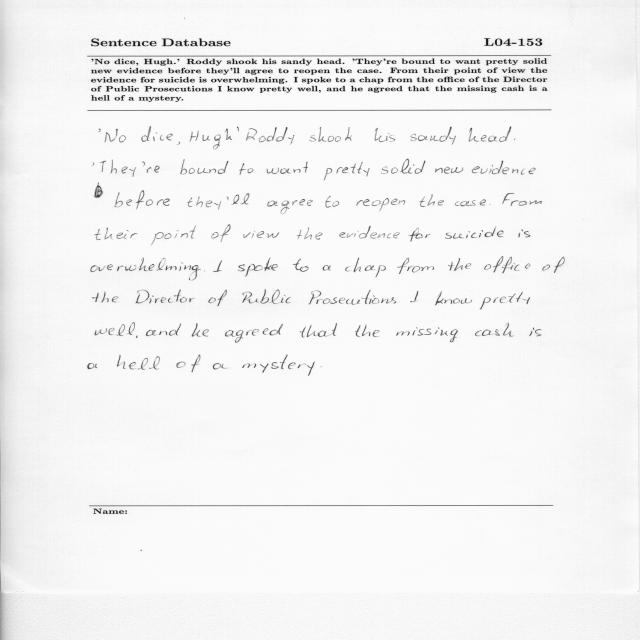word: (91, 258, 201, 281), (95, 183, 170, 209), (309, 290, 397, 305), (242, 355, 306, 373), (225, 324, 283, 343), (396, 328, 458, 343), (472, 161, 536, 175), (190, 129, 232, 150), (480, 292, 530, 309), (135, 290, 195, 304), (152, 226, 196, 245), (411, 127, 456, 145), (324, 162, 369, 180), (484, 257, 530, 274), (345, 258, 386, 277), (445, 226, 504, 239), (238, 258, 278, 277), (180, 159, 229, 174), (242, 289, 291, 304), (339, 226, 400, 238), (267, 199, 313, 214), (469, 126, 511, 142), (381, 159, 425, 174), (259, 127, 295, 145), (101, 159, 137, 177), (309, 127, 352, 142), (117, 355, 160, 370), (357, 198, 406, 211), (398, 258, 435, 274), (299, 323, 337, 338), (475, 323, 514, 337), (502, 193, 542, 206), (95, 323, 135, 336), (435, 292, 472, 306), (95, 228, 138, 240), (142, 126, 173, 142), (267, 162, 308, 174), (146, 324, 181, 337), (187, 197, 221, 210), (177, 355, 201, 372), (542, 256, 565, 273), (296, 227, 323, 240), (211, 225, 231, 242), (420, 194, 444, 207), (208, 290, 227, 306), (448, 258, 471, 271), (409, 228, 430, 242), (355, 325, 379, 337), (375, 128, 395, 142), (93, 292, 118, 303), (105, 129, 126, 142), (227, 193, 249, 205), (243, 231, 279, 238), (192, 323, 209, 337), (455, 200, 486, 207), (293, 259, 309, 272), (142, 162, 160, 173), (435, 167, 463, 174), (239, 163, 253, 175), (326, 196, 340, 208), (246, 128, 257, 141), (307, 362, 315, 376), (213, 260, 222, 272), (530, 328, 542, 337), (213, 363, 227, 370), (519, 230, 531, 238), (410, 291, 418, 302), (88, 363, 98, 369), (323, 265, 331, 271), (177, 142, 180, 145), (237, 127, 239, 131), (92, 162, 94, 166), (99, 129, 101, 132), (136, 335, 138, 338), (514, 139, 515, 140), (490, 204, 491, 205), (204, 271, 205, 271)
